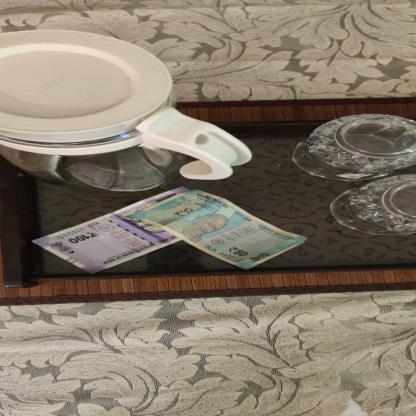New100Front: (32, 185, 192, 275)
New50Front: (131, 189, 308, 270)
